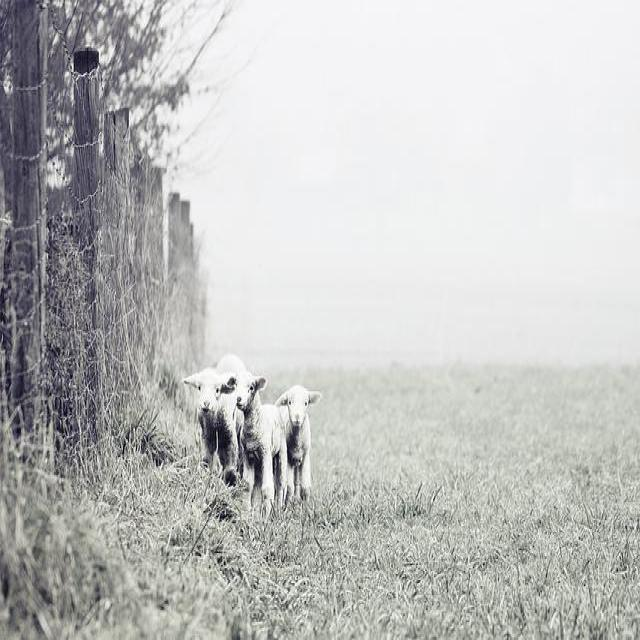Sheep: (234, 368, 288, 509), (183, 370, 238, 489), (275, 385, 323, 504)
